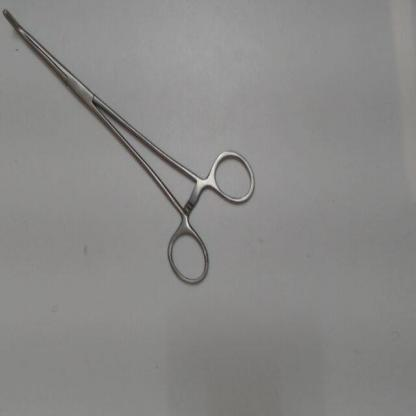Lahey Forceps: (2, 3, 260, 294)
